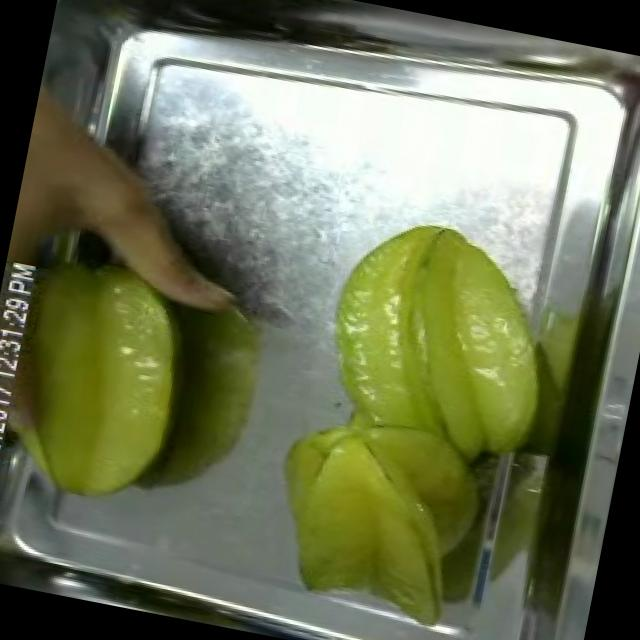fruit: (301, 198, 585, 490), (237, 397, 508, 640), (0, 231, 209, 523), (2, 55, 131, 297)
